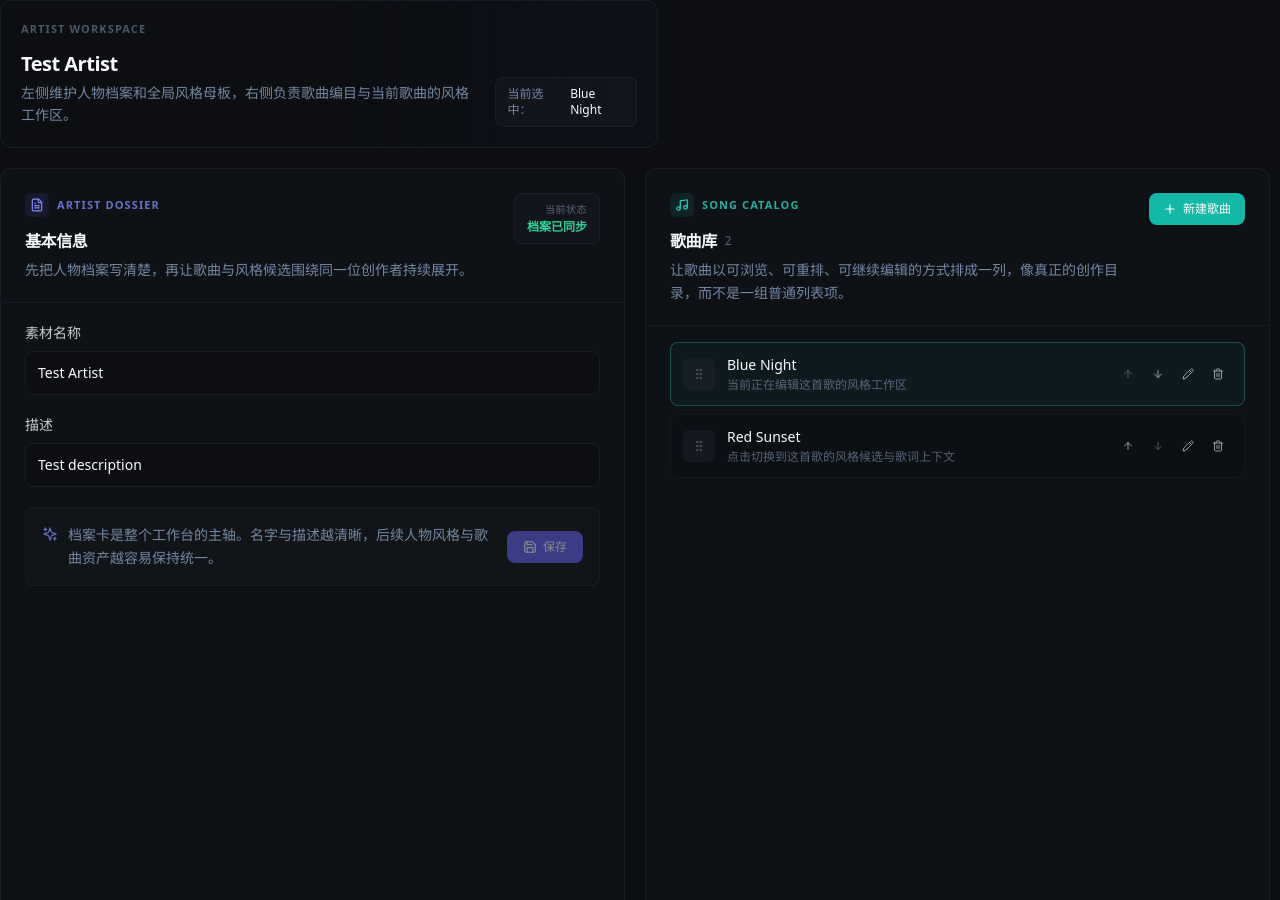
ArtistWorkspace › creates song-level prompts locally without refetching detail
The width and height of the screenshot is (1280, 900).
Click the button named "Red Sunset点击切换到这首歌的风格候选与歌词上下文" at (914, 446), box [727,426,1102,464]
(page scrolled)
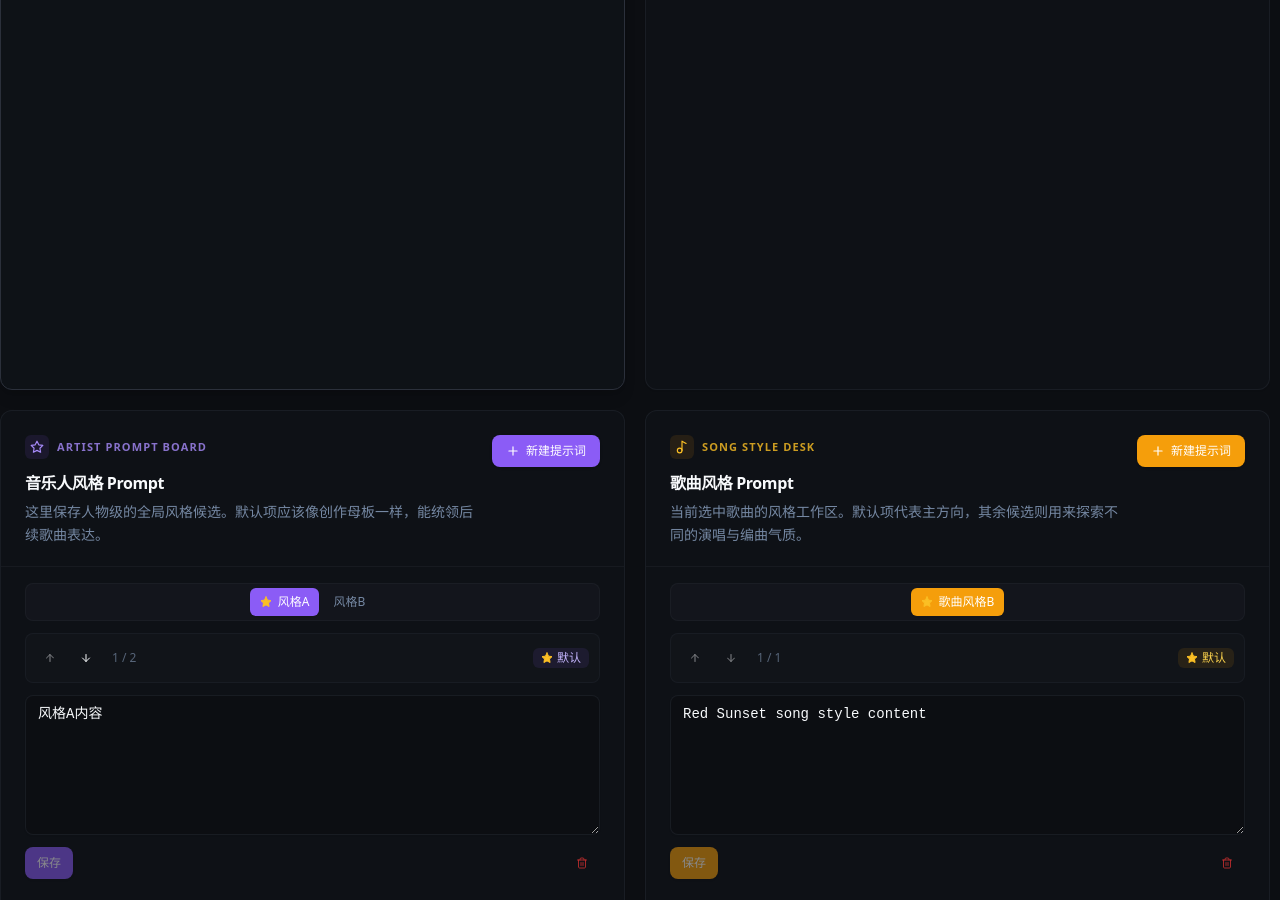
Check: the text "歌曲风格 Prompt" is shown, box [670,472,794,494]
Click the button "新建提示词" in the row of "Song Style Desk" at (1191, 451), box [1137,435,1245,467]
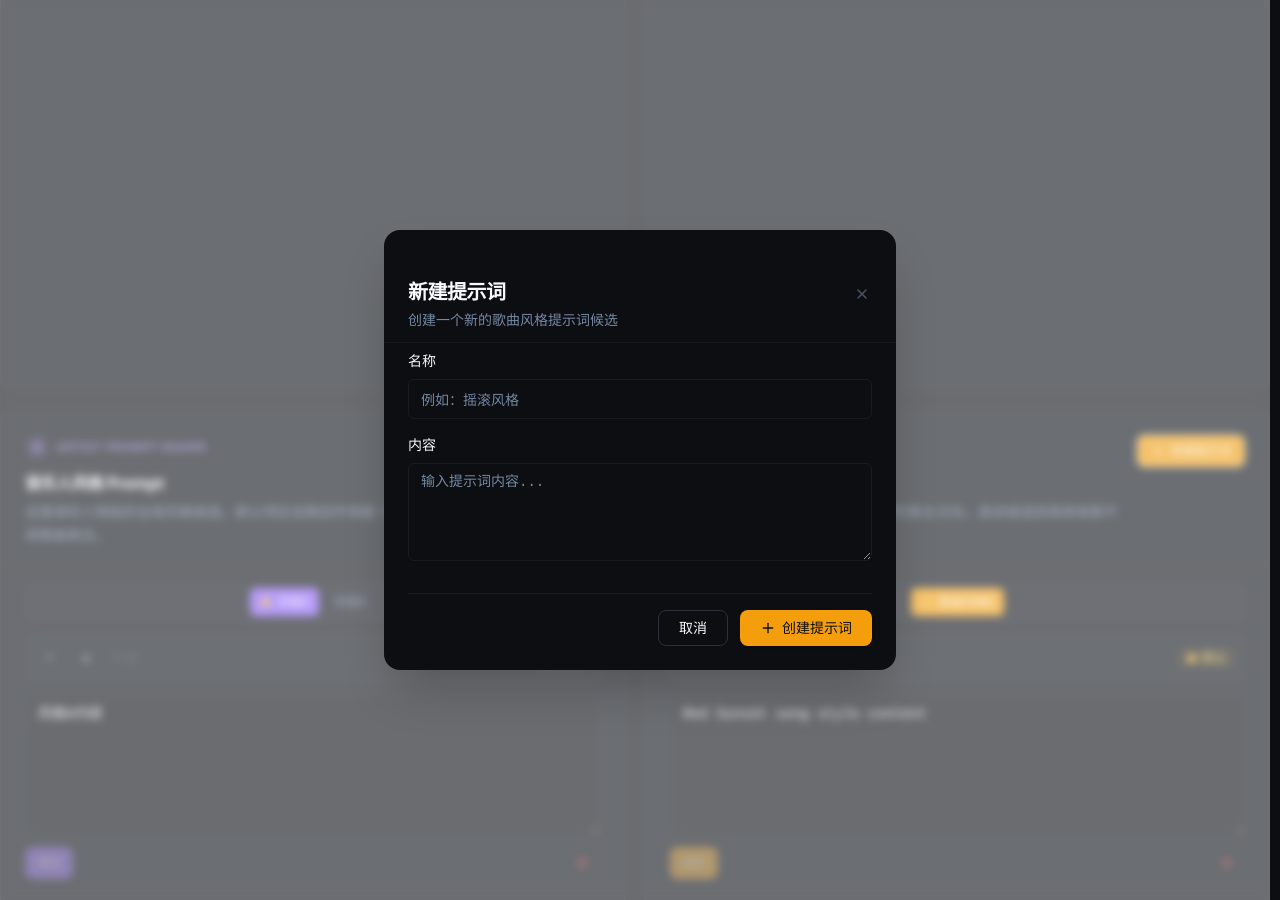
Type "歌曲风格C" into the field with placeholder "例如：摇滚风格" at (640, 399), box [408,379,872,419]
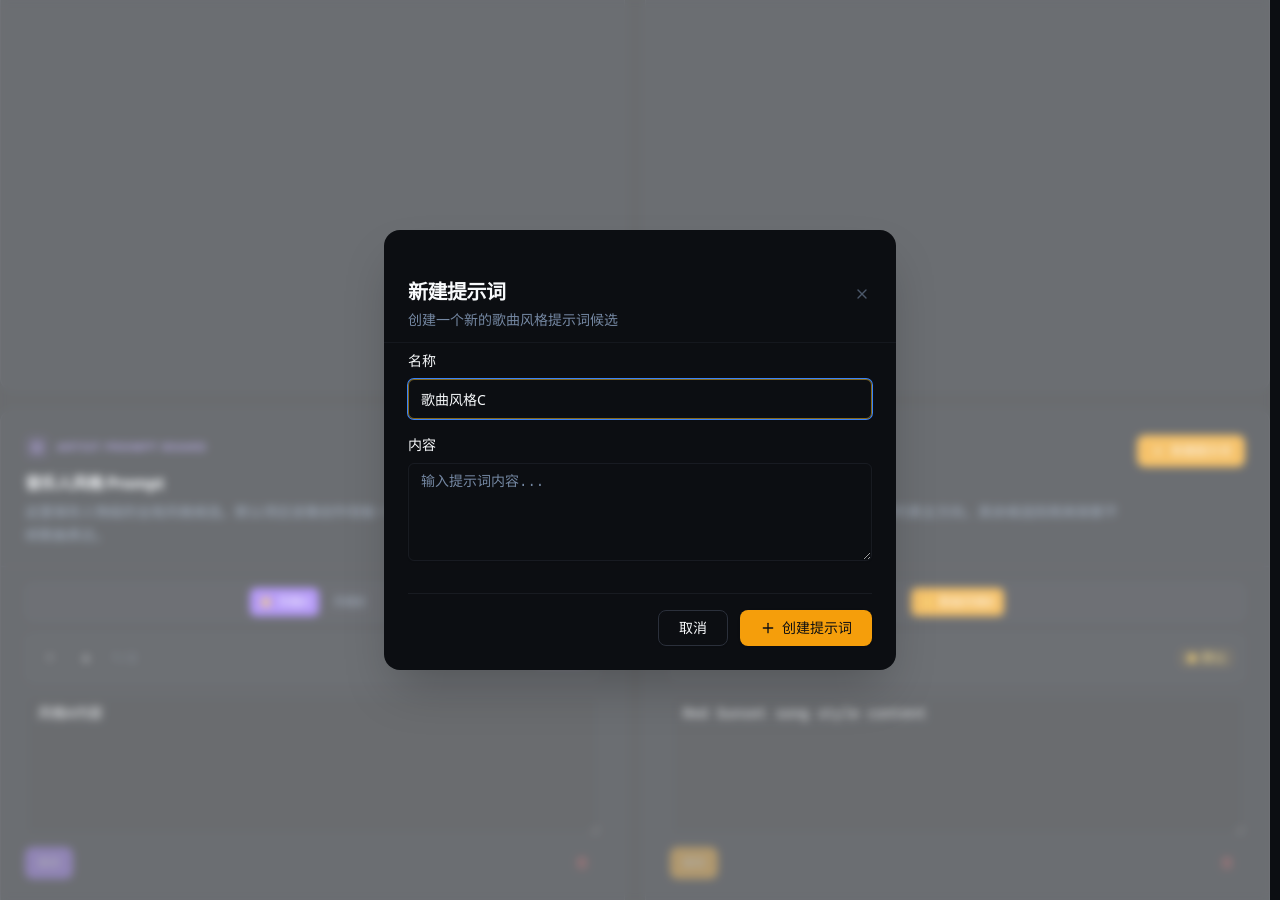
Type "歌曲风格C内容" into the text box with placeholder "输入提示词内容..." at (640, 512), box [408,463,872,561]
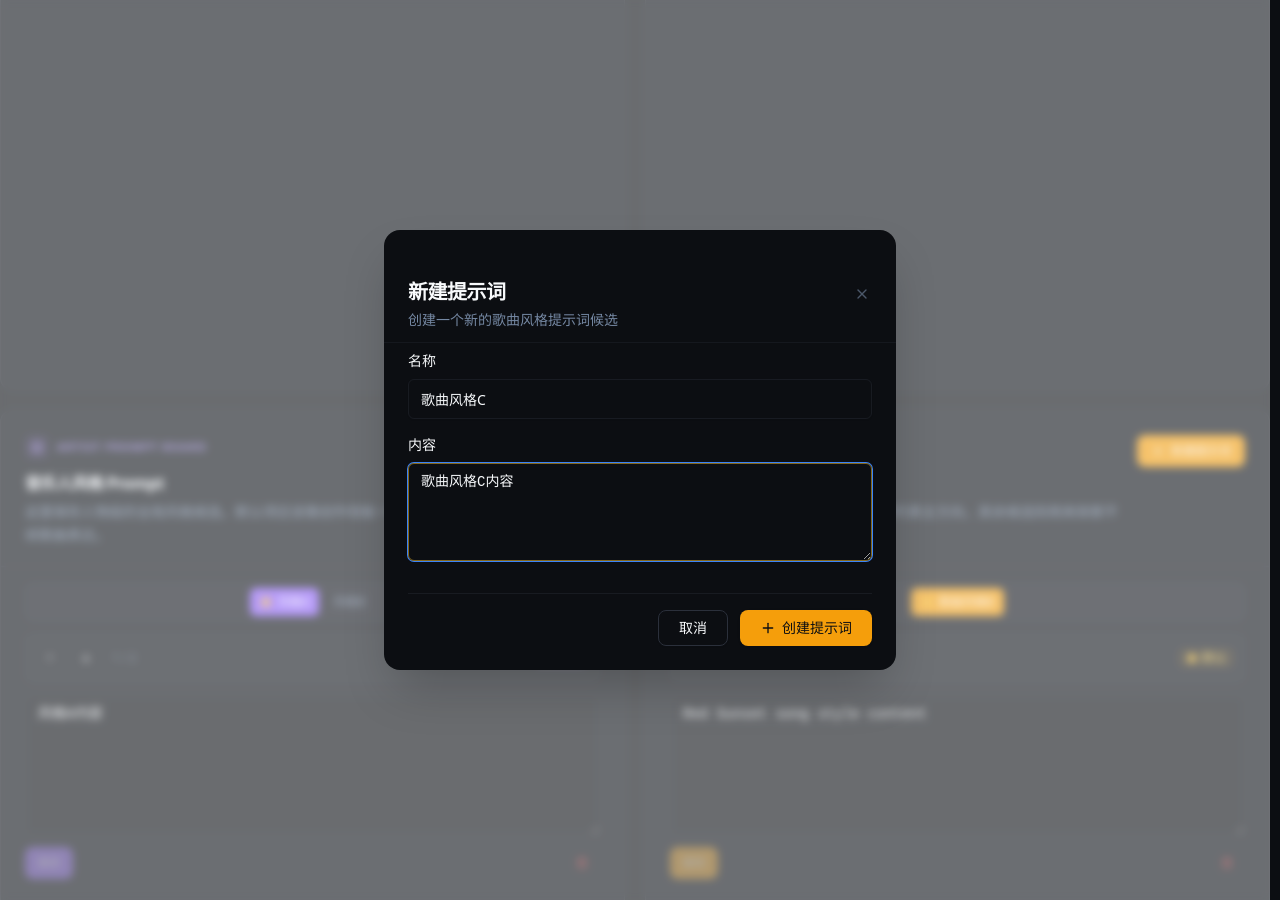
Click the button "创建提示词" at (806, 628), box [740,610,872,646]
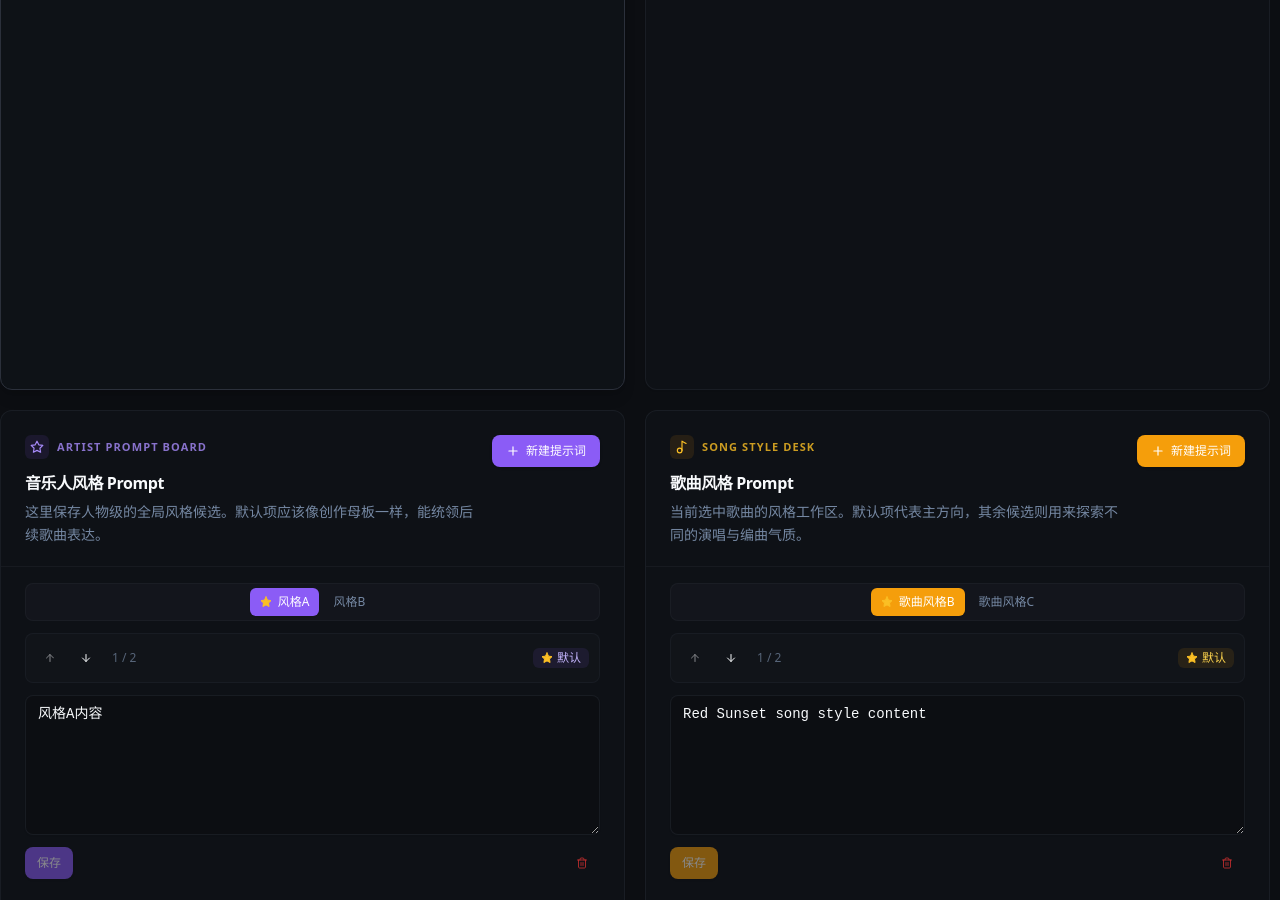
Check: the tab "歌曲风格C" is shown, box [969,588,1044,616]
